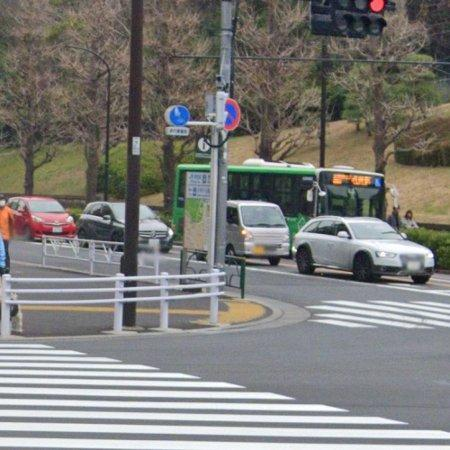buses: (229, 159, 387, 234), (173, 164, 208, 233)
